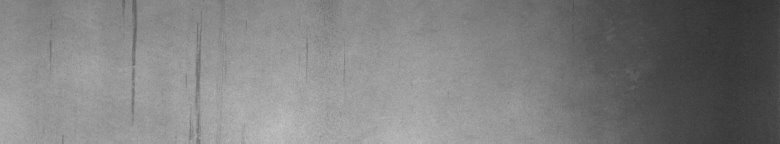ka: (124, 4, 204, 136)
